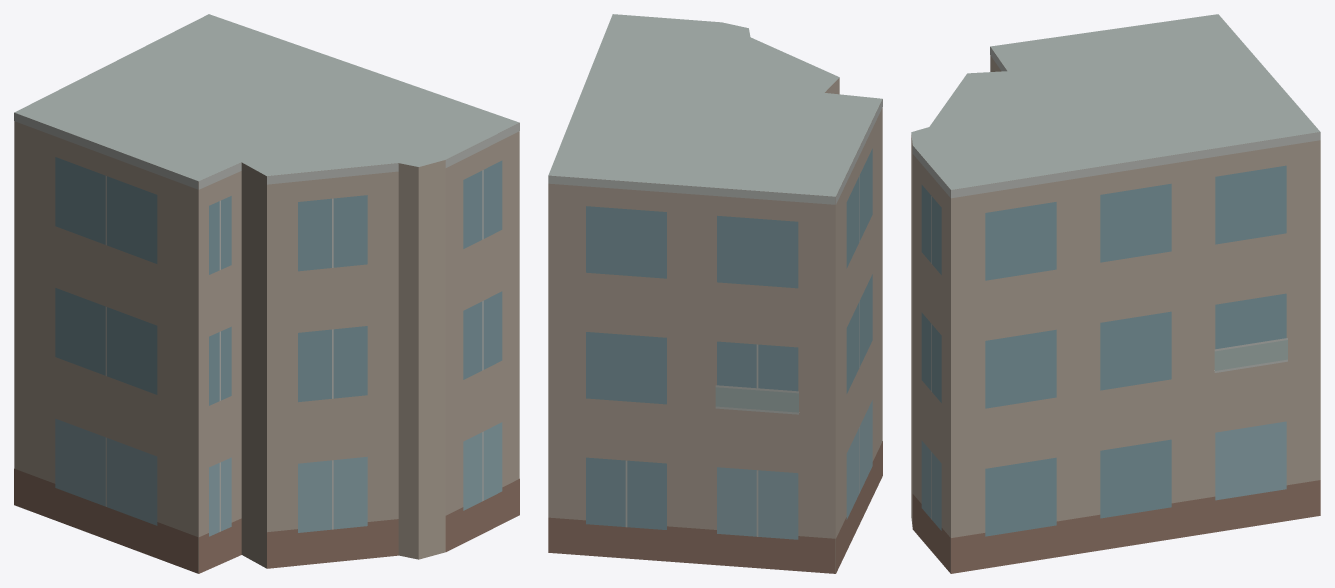
The model's file is survey-upis-33034501.glb.
The picture shows the model from 3 angles, left to right: view 1: azimuth 30°, elevation 25°; view 2: azimuth 150°, elevation 25°; view 3: azimuth 270°, elevation 25°; orthographic projection. The views are drawn at different scales.
Visible parts, largest first — view 1: survey-upis-33034501.tmp; view 2: survey-upis-33034501.tmp; view 3: survey-upis-33034501.tmp.
Part boxes in pixels (x1=…): survey-upis-33034501.tmp: x1=14, y1=14, x2=519, y2=573; survey-upis-33034501.tmp: x1=548, y1=14, x2=882, y2=573; survey-upis-33034501.tmp: x1=911, y1=14, x2=1320, y2=573.
Bounding box in the file's own units: 11.13 × 11.3 × 10.93.
